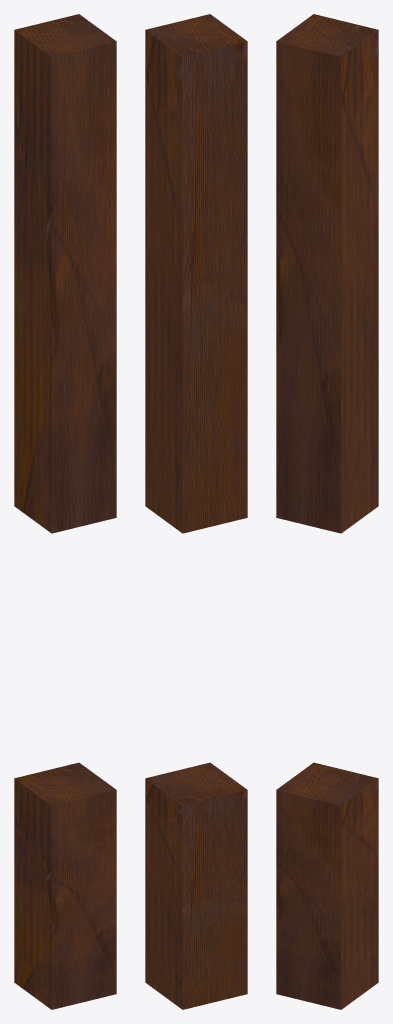
Rendered from obs8.glb.
3 views of the same model, side by side, from view 1: azimuth 30°, elevation 25°; view 2: azimuth 210°, elevation 25°; view 3: azimuth 330°, elevation 25° (orthographic).
Parts seen in each view (by area): view 1: obs8; view 2: obs8; view 3: obs8.
Boxes of the visible parts, box(x1,y1,x2,y2) form: obs8: box(14, 14, 116, 1009); obs8: box(145, 14, 247, 1009); obs8: box(276, 14, 378, 1009).
Bounding box in the file's own units: 1 × 14 × 1.
Materials: 1 (1 with a texture image).
